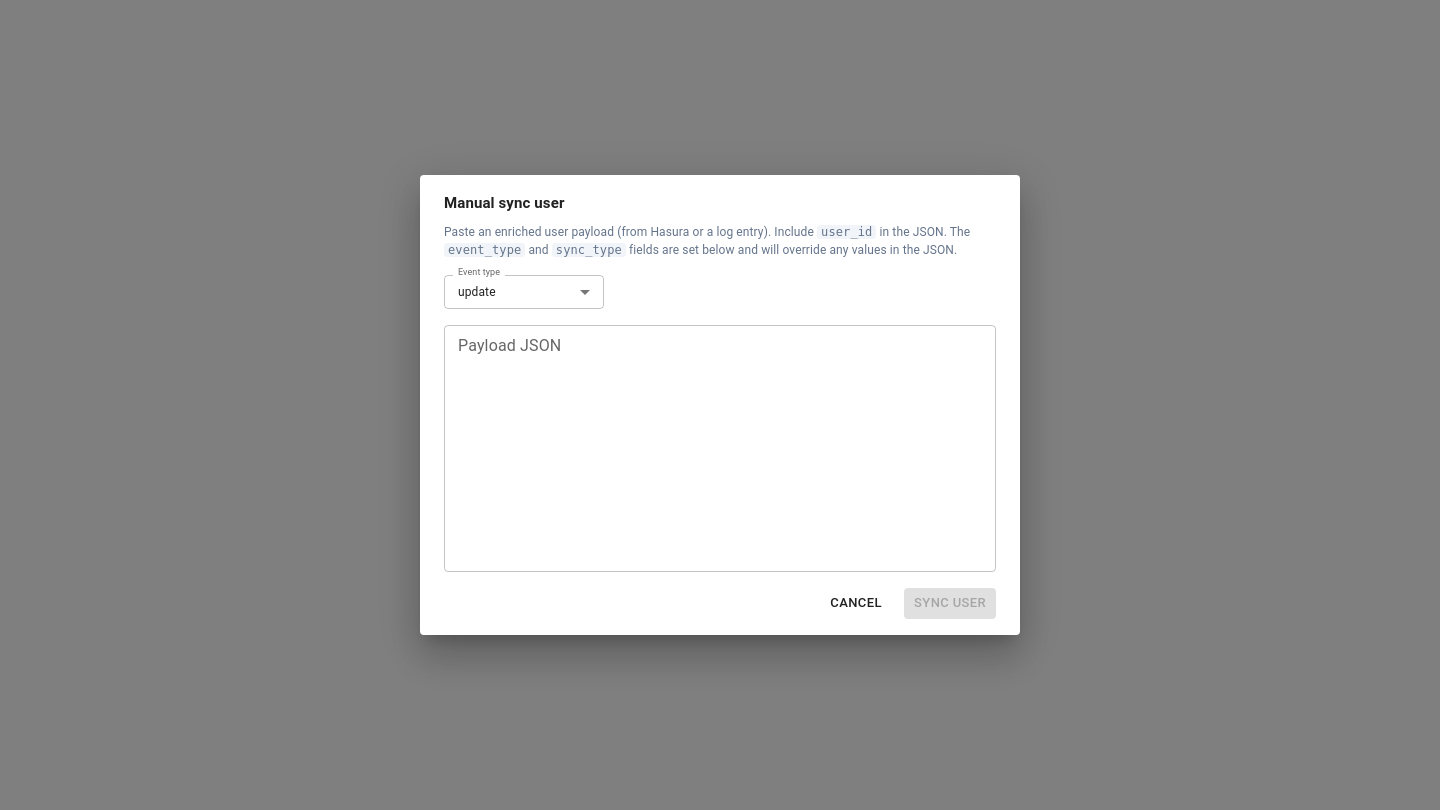
Test case: SyncUserByPayloadModal › shows error if JSON is invalid
Replace the text in the text box labelled "Payload JSON" with "not-valid-json": (720,449) [458,334,982,564]
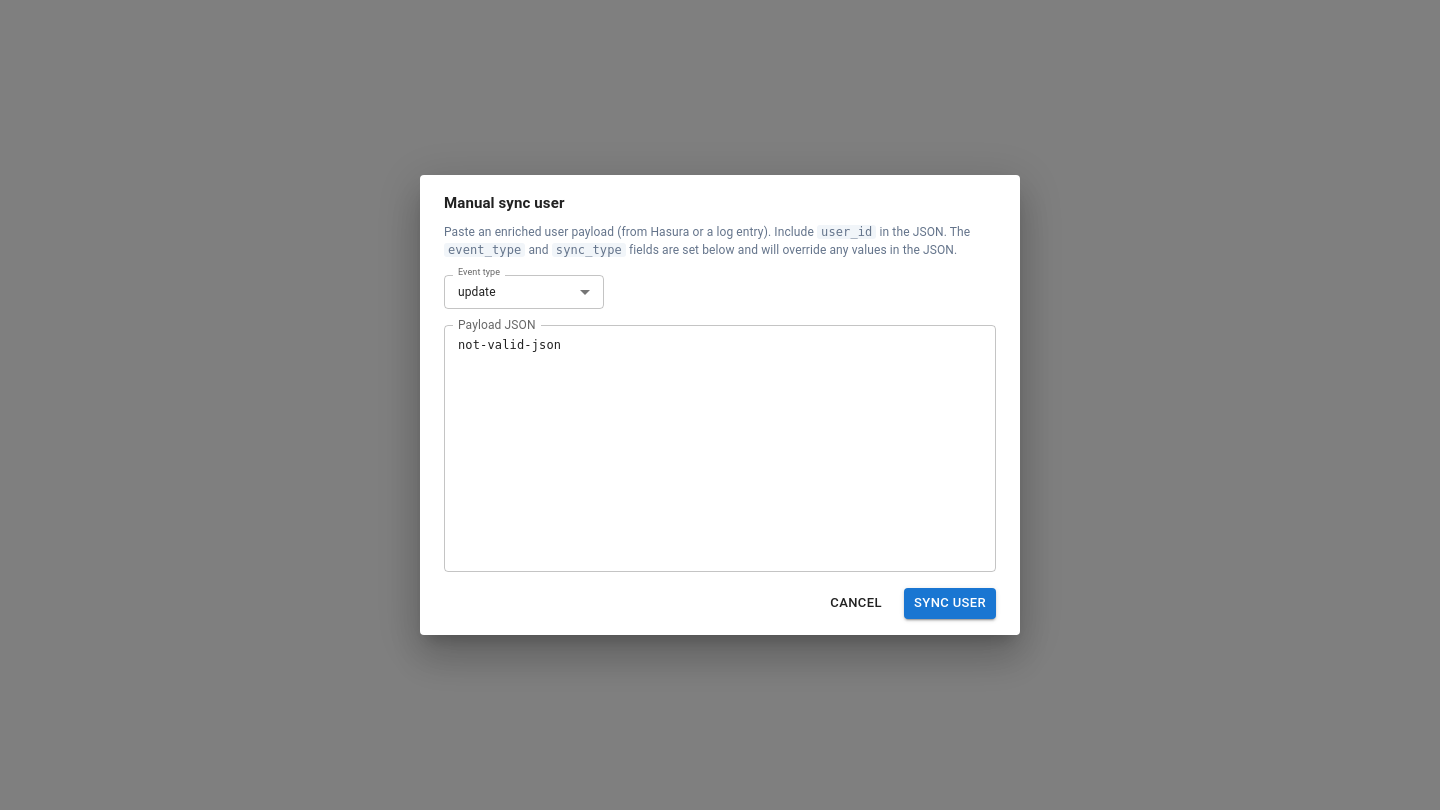
Click the button "Sync user": (950,604) [904,588,996,619]
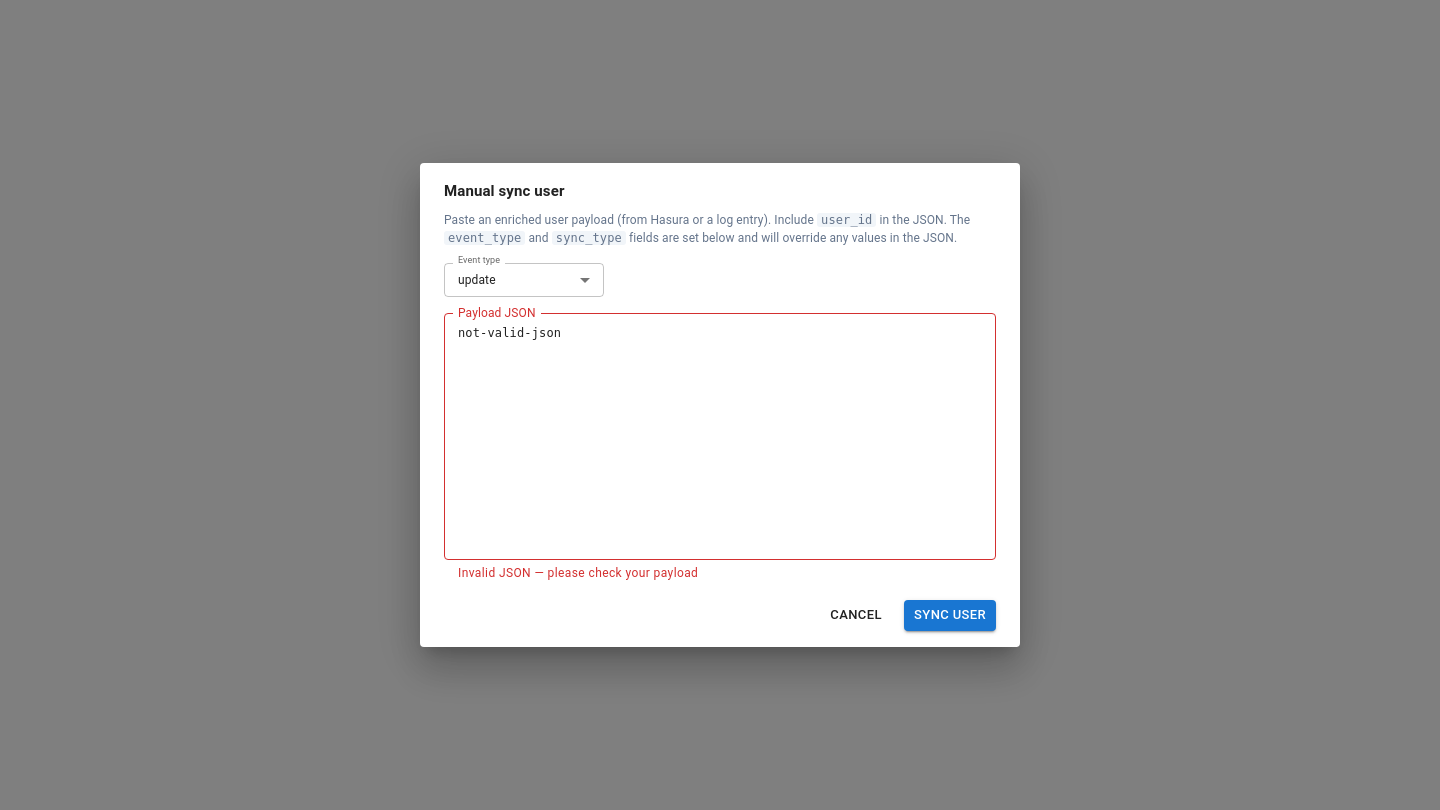
Now the text "Invalid JSON — please check your payload" is shown, box [458,566,698,580]
